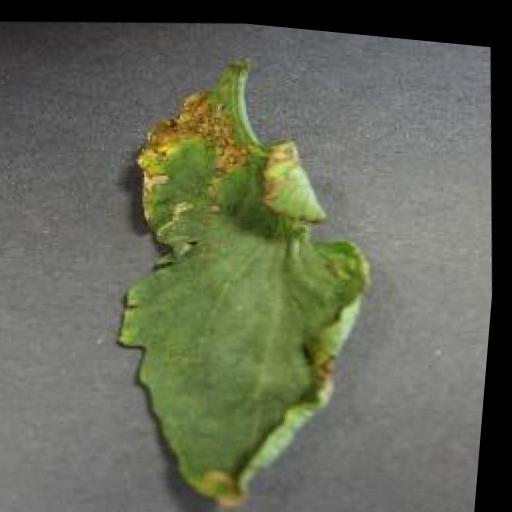Bacterial Spot: (83, 58, 410, 512)
